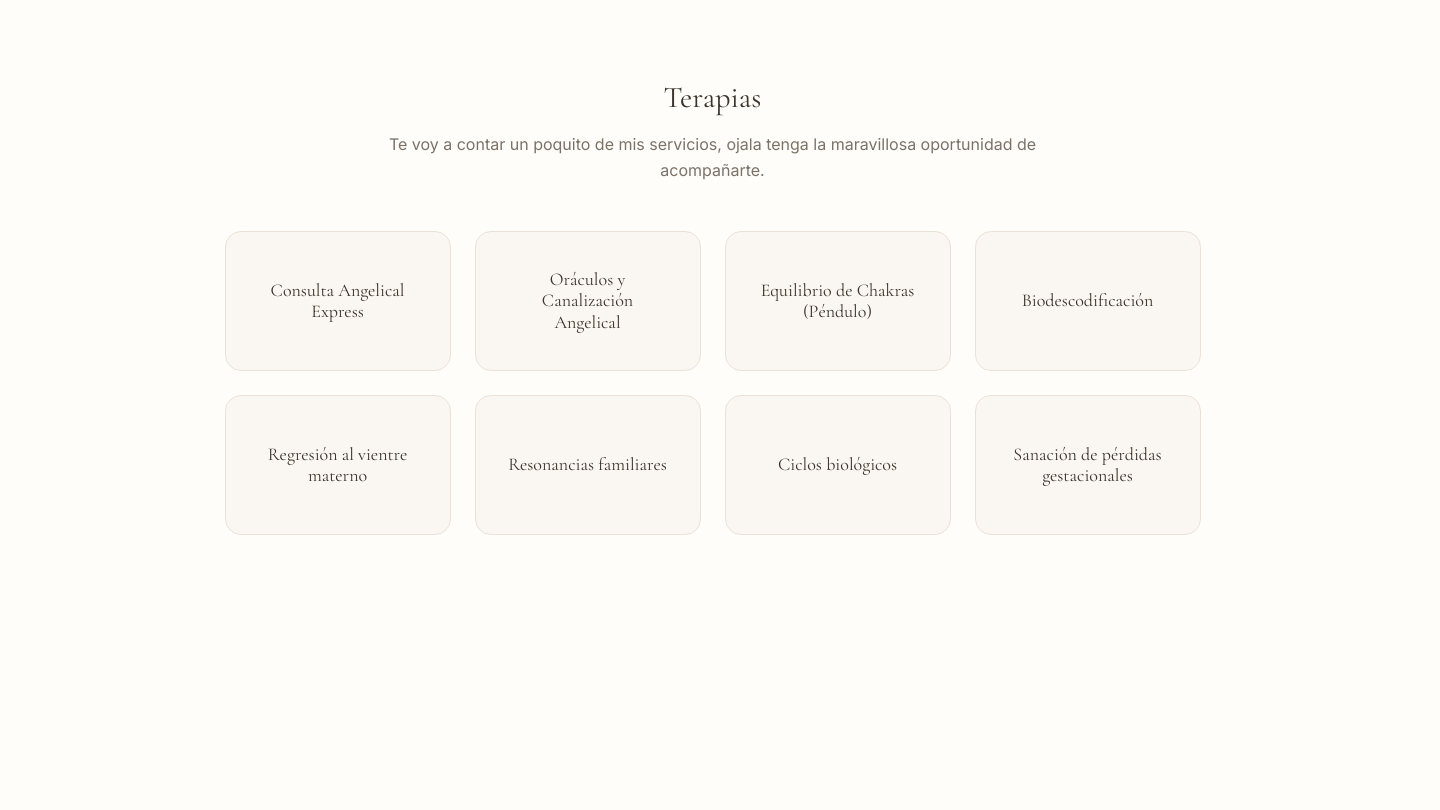
Test: Services › opening a therapy card › opens the modal with "Consulta Angelical Express" content
The width and height of the screenshot is (1440, 810).
What coordinates should you click on to do the following:
click the button "Consulta Angelical Express"
I would click on:
 (338, 301)
Its box is [224,231,450,371].
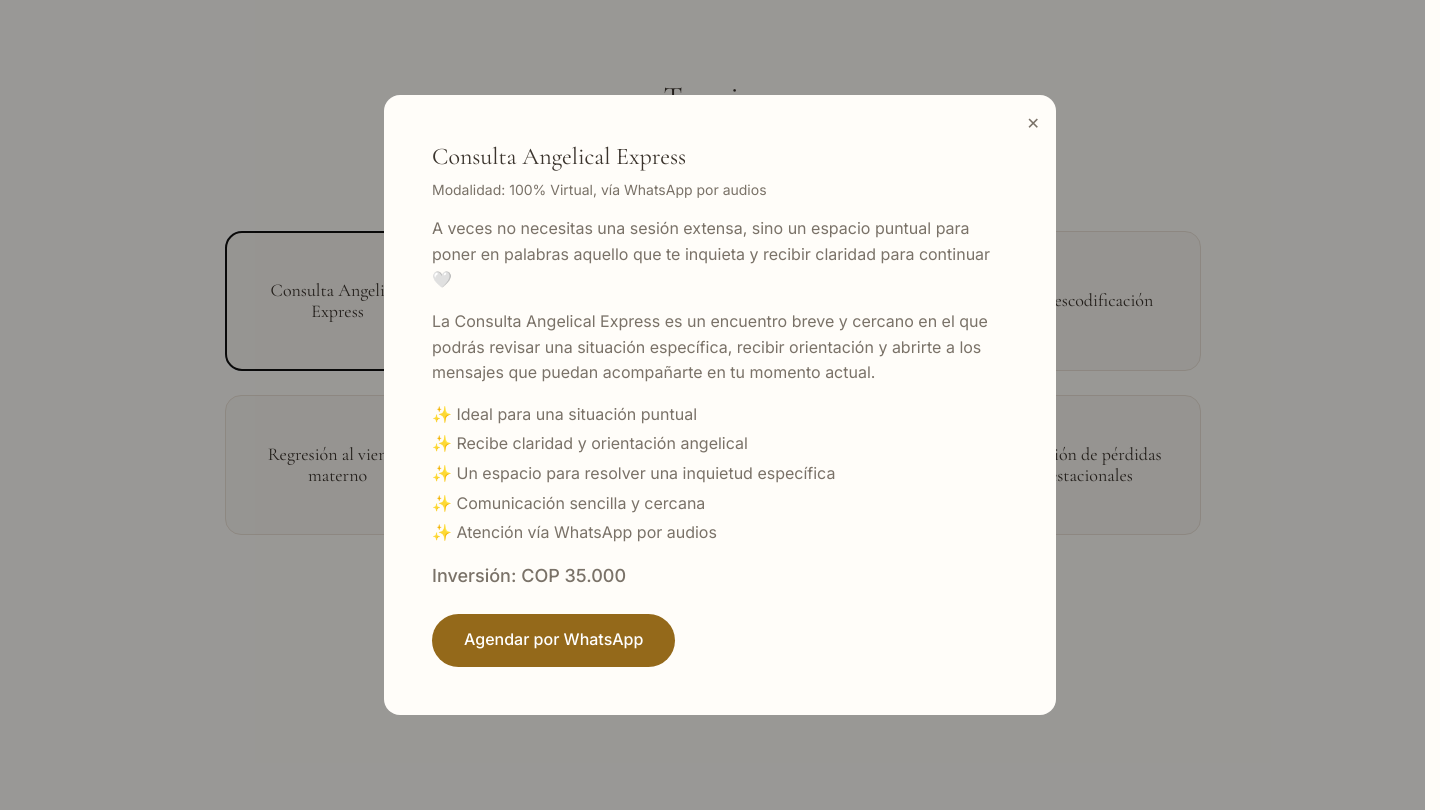
Expected: the dialog is shown, [384,95,1056,714]
Expected: the heading "Consulta Angelical Express" is shown, [432,142,686,171]
Expected: the text "A veces no necesitas una sesión extensa, sino un espacio puntual para poner en palabras aquello que te inquieta y recibi" is shown, [432,218,990,289]
